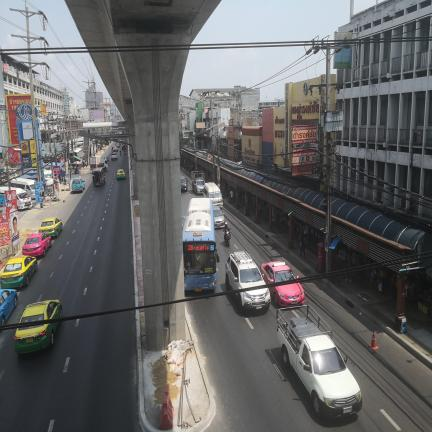bus: (183, 198, 219, 292)
car: (225, 251, 270, 309), (269, 283, 305, 307), (213, 205, 225, 228), (72, 178, 85, 192), (117, 169, 125, 180)
human: (299, 232, 306, 258), (230, 189, 234, 204)
motorbike: (224, 231, 231, 246)
pickup: (277, 304, 362, 417)
taxi: (14, 300, 62, 354), (0, 256, 37, 289), (261, 261, 298, 284), (22, 232, 51, 257), (38, 218, 62, 237)
truck: (191, 171, 205, 194), (89, 156, 107, 170)
van: (11, 186, 32, 210), (11, 178, 35, 199), (203, 182, 223, 207)
